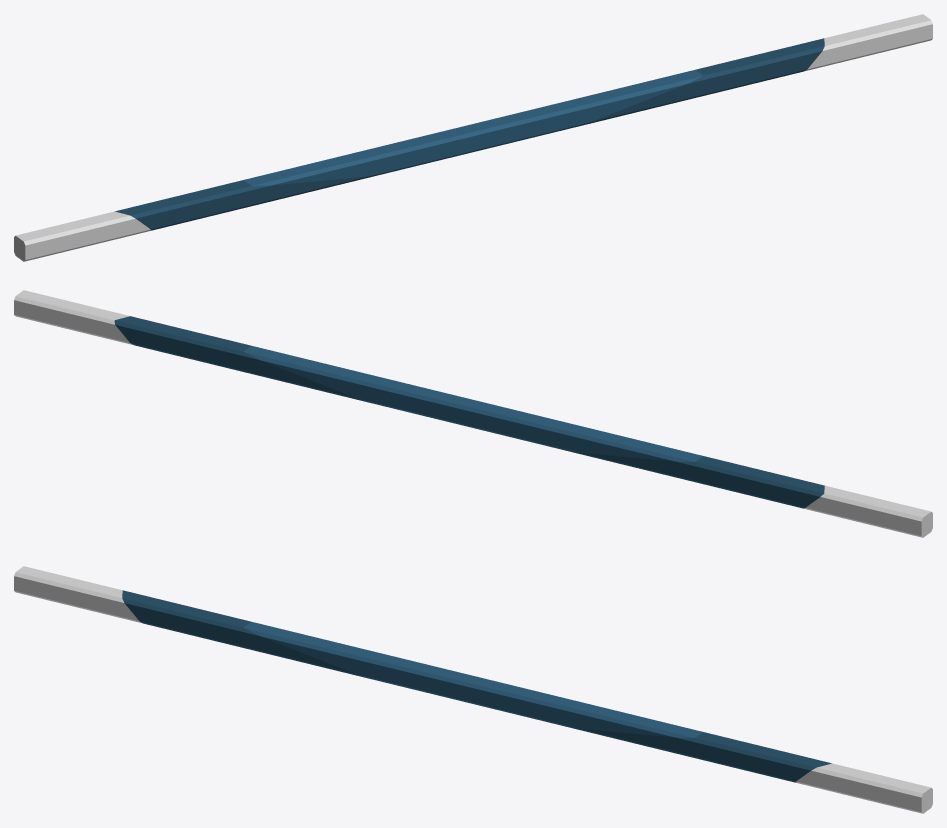
File: SM_Bld_Grandstand_Trim_03.fbx
3 renders of one model, top to bottom at view 1: azimuth 30°, elevation 25°; view 2: azimuth 150°, elevation 25°; view 3: azimuth 330°, elevation 25°, orthographic.
Parts seen in each view (by area): view 1: SM_Bld_Grandstand_Trim_03; view 2: SM_Bld_Grandstand_Trim_03; view 3: SM_Bld_Grandstand_Trim_03.
Boxes of the visible parts, x1,y1,x2,y2 form: SM_Bld_Grandstand_Trim_03: (14,14,932,261); SM_Bld_Grandstand_Trim_03: (14,290,932,537); SM_Bld_Grandstand_Trim_03: (14,566,932,813).
Size of the model in its own units: 1250 by 26.66 by 27.11.
